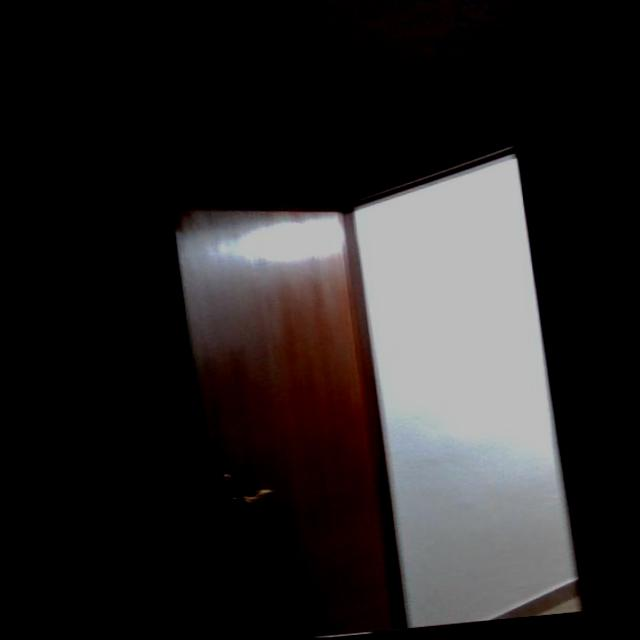open: (139, 116, 608, 638)
